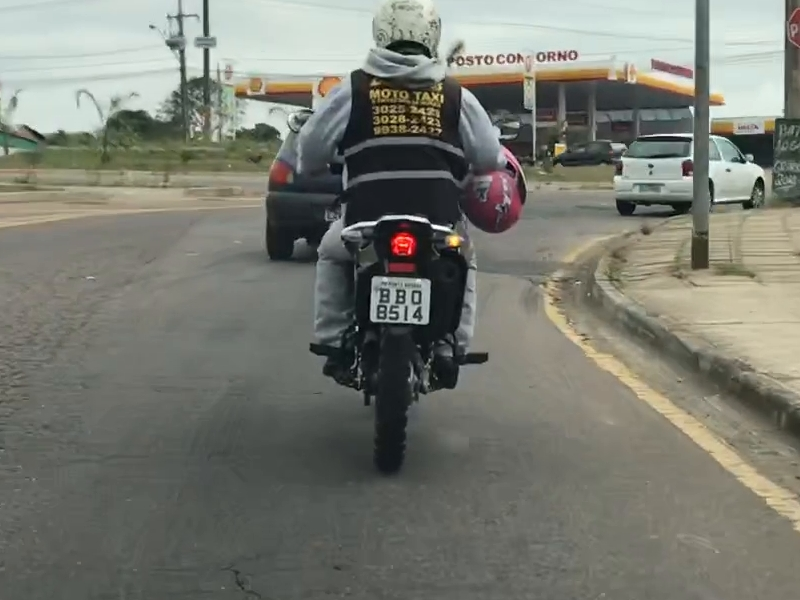placa: (370, 276, 431, 325)
